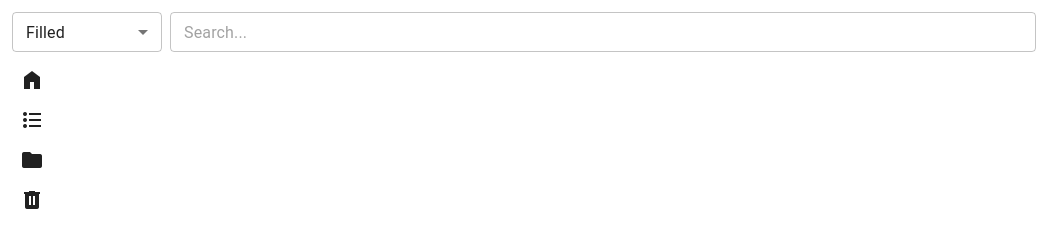
it: IconPicker Component › shows "No icon found." when search yields no results
Expected: the button with test id "icon-button-home" is shown, [12,60,52,100]
Type "xxx_not_existing" into the field with placeholder "Search..." at (603, 32), box [170,12,1036,52]
Wait 1000 ms
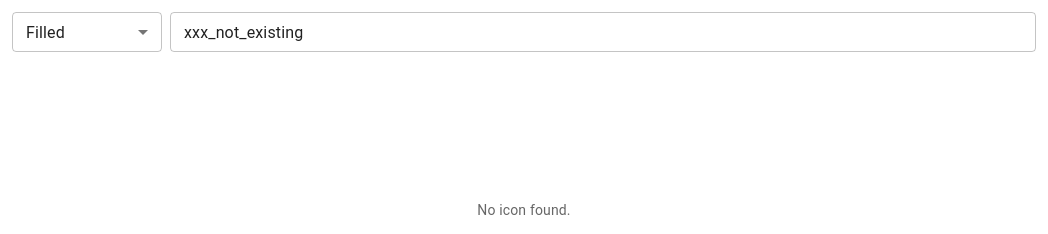
Result: the text "No icon found." is shown at [477,202,571,218]
